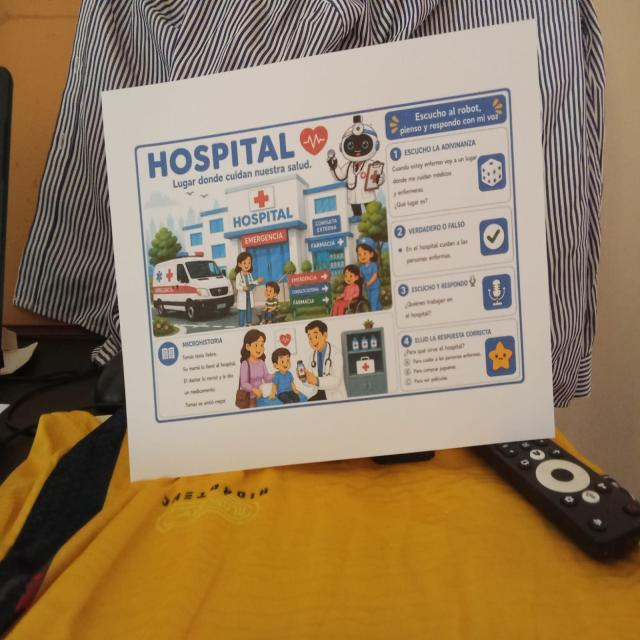hospital: (131, 83, 528, 428)
